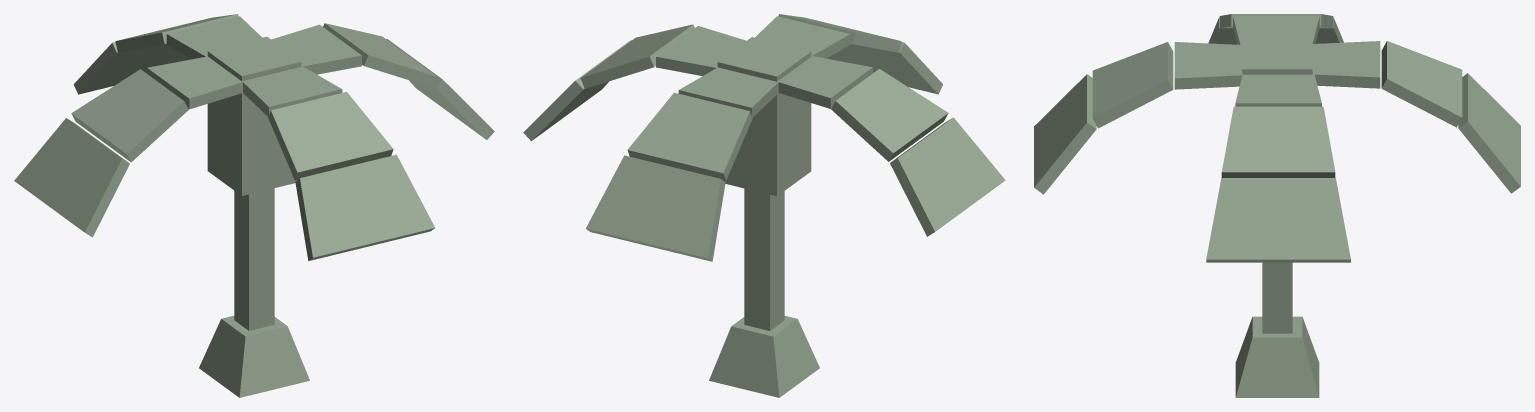
File: palm_01.fbx
The picture shows the model from 3 angles, left to right: view 1: azimuth 30°, elevation 25°; view 2: azimuth 150°, elevation 25°; view 3: azimuth 270°, elevation 25°; orthographic projection. The views are drawn at different scales.
Parts seen in each view (by area): view 1: palm_01; view 2: palm_01; view 3: palm_01.
Part boxes in pixels (left/top/right/bottom): palm_01: left=14, top=14, right=494, bottom=397; palm_01: left=523, top=14, right=1005, bottom=397; palm_01: left=1034, top=14, right=1520, bottom=397.
Size of the model in its own units: 6.22 by 4.59 by 6.22.
